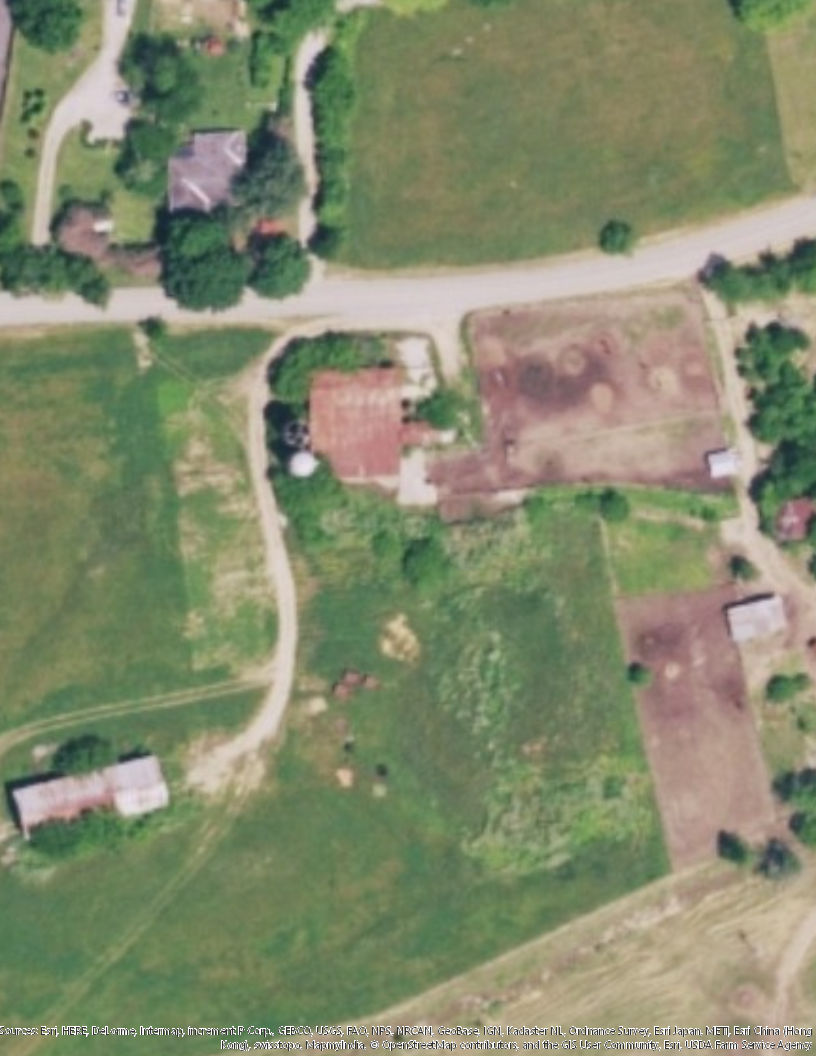cafo: (300, 357, 417, 494), (8, 752, 175, 836)
